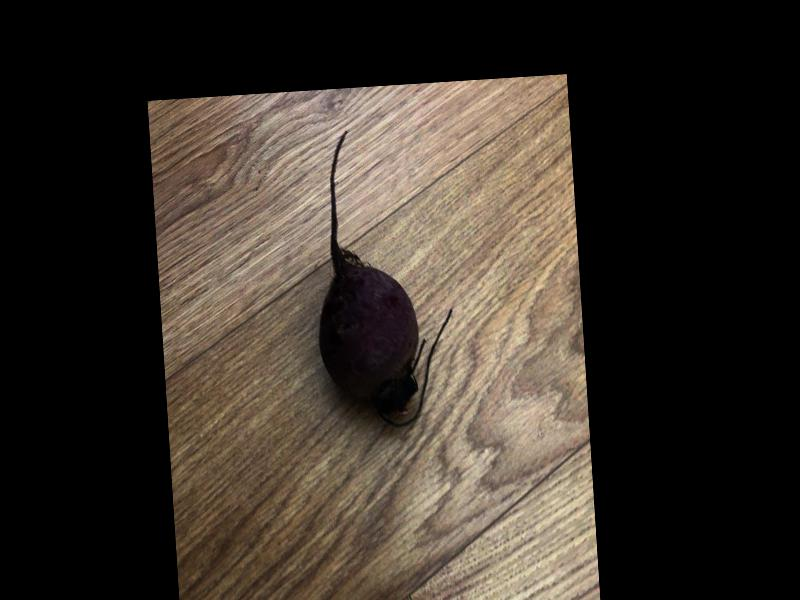Beet: (305, 124, 459, 431)
